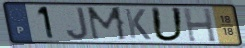1: (34, 6, 56, 42)
H: (181, 6, 219, 43)
J: (65, 6, 91, 42)
K: (123, 7, 153, 41)
M: (85, 6, 129, 42)
U: (149, 6, 187, 43)
